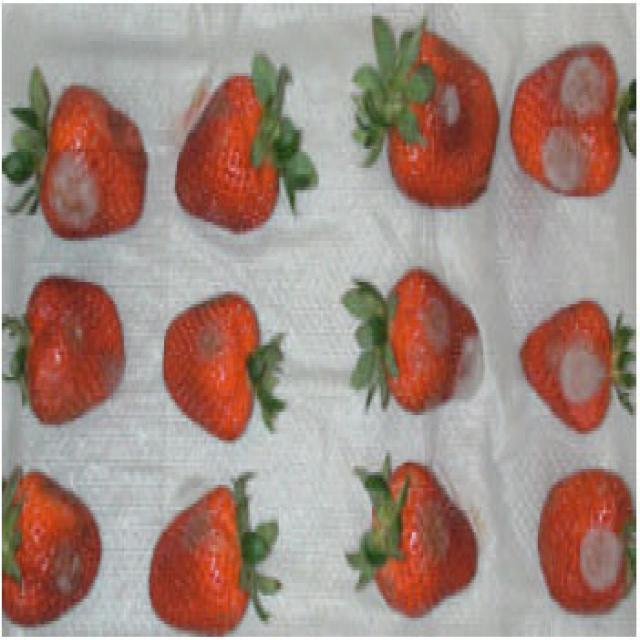Moho gris: (382, 12, 495, 204), (364, 456, 480, 622), (175, 66, 286, 230), (514, 46, 624, 206), (148, 474, 256, 630), (383, 266, 486, 426), (21, 268, 126, 422), (44, 79, 146, 234), (160, 284, 257, 444), (6, 463, 100, 627), (538, 468, 640, 609), (522, 299, 615, 431)
